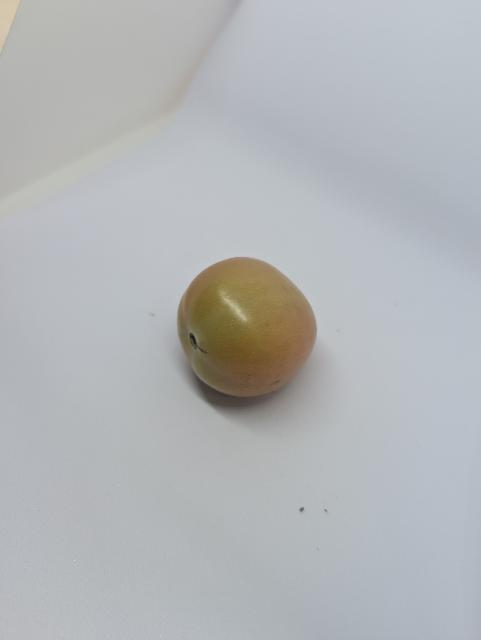breaker: (172, 252, 326, 405)
